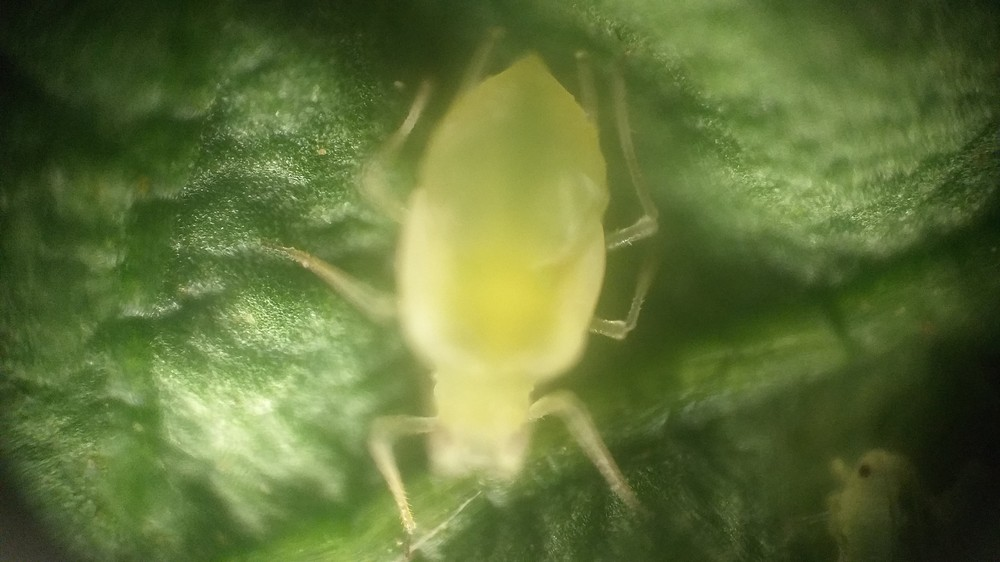Pulgon: (286, 33, 688, 546)
